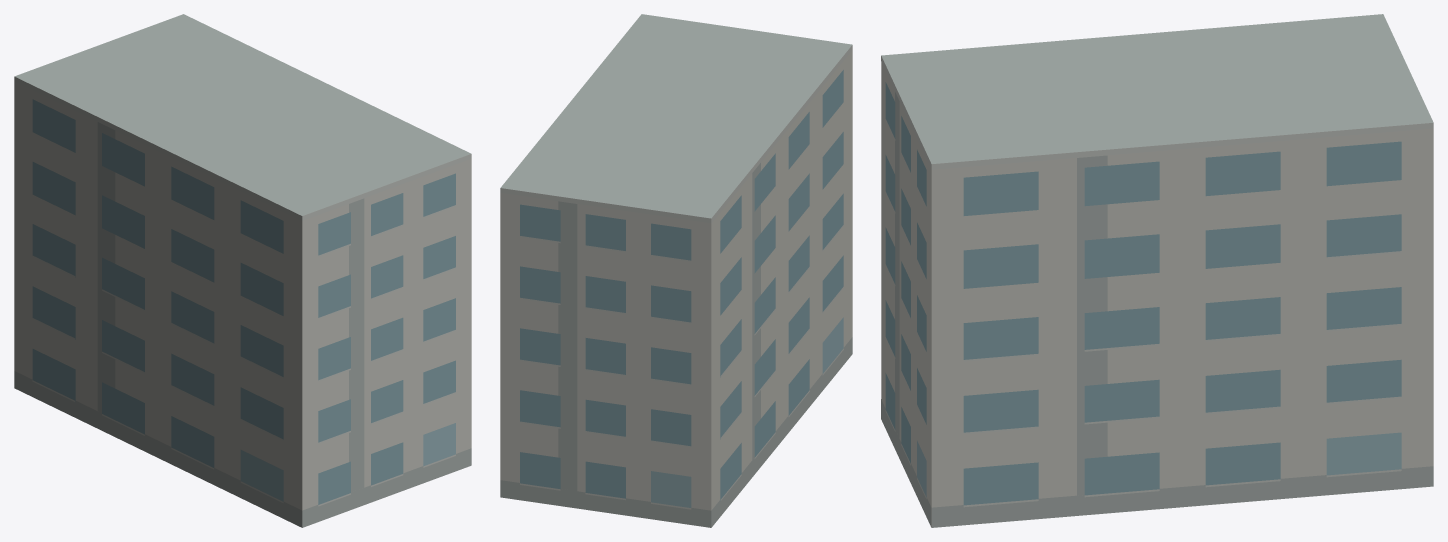
The model's file is residential-84e26233-c839-4ff7-999f-09bd6aea44b0.glb.
The picture shows the model from 3 angles, left to right: view 1: azimuth 30°, elevation 25°; view 2: azimuth 150°, elevation 25°; view 3: azimuth 270°, elevation 25°; orthographic projection. The views are drawn at different scales.
Parts seen in each view (by area): view 1: residential-84e26233-c839-4ff7-999f-09bd6aea44b0.tmp; view 2: residential-84e26233-c839-4ff7-999f-09bd6aea44b0.tmp; view 3: residential-84e26233-c839-4ff7-999f-09bd6aea44b0.tmp.
Boxes of the visible parts, x1,y1,x2,y2 form: residential-84e26233-c839-4ff7-999f-09bd6aea44b0.tmp: (14, 14, 471, 527); residential-84e26233-c839-4ff7-999f-09bd6aea44b0.tmp: (500, 14, 852, 527); residential-84e26233-c839-4ff7-999f-09bd6aea44b0.tmp: (881, 14, 1433, 527).
Size of the model in its own units: 13.51 by 15.25 by 21.01.
